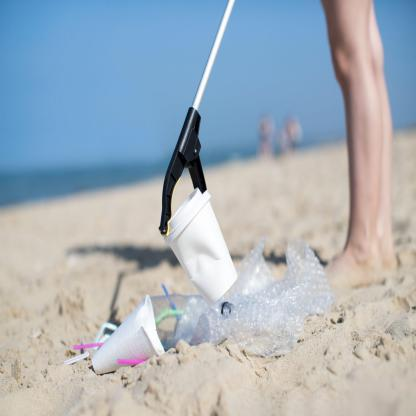Plastic: (180, 276, 335, 344), (166, 187, 239, 299), (90, 292, 168, 378)
